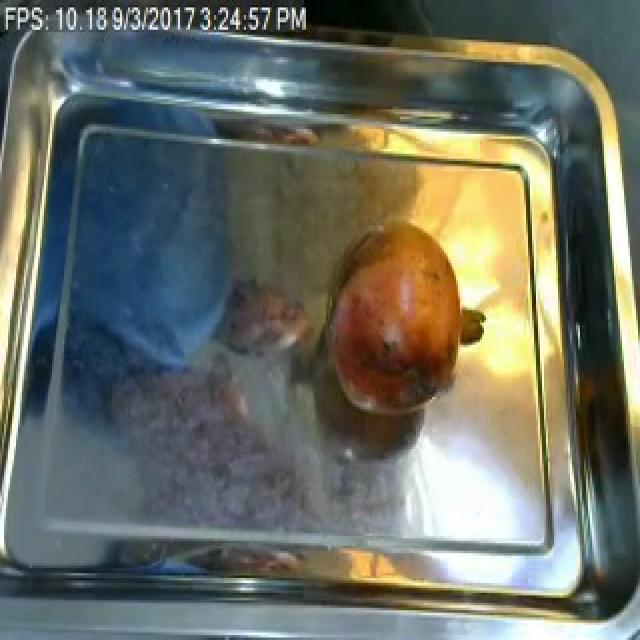fruit: (320, 204, 490, 432)
